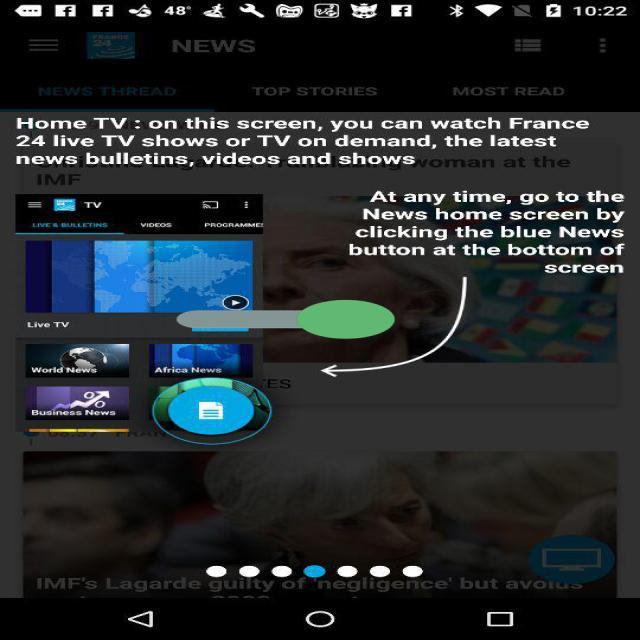social proof: (176, 276, 394, 363)
